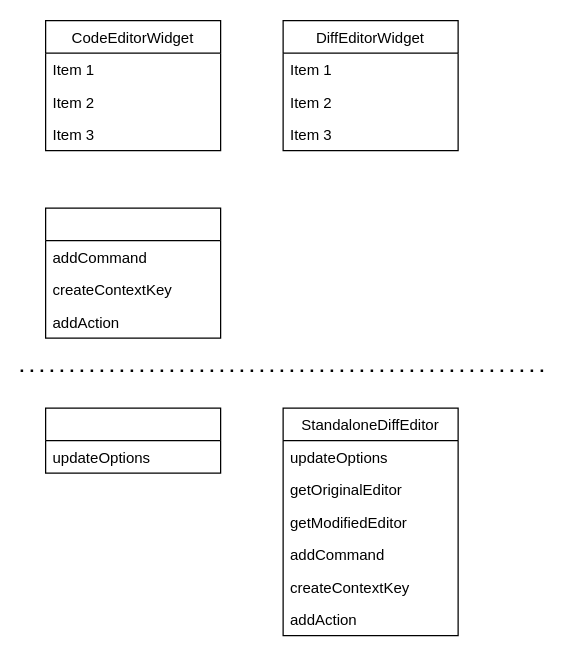
Some shapes in this 566 by 656 pixel diagram are drawn without their labels. Here are the shapes that lost their labels. From the top down, the box of each, then its label:
(44, 207, 221, 338): StandaloneCodeEditor
(44, 407, 221, 473): StandaloneEditor
